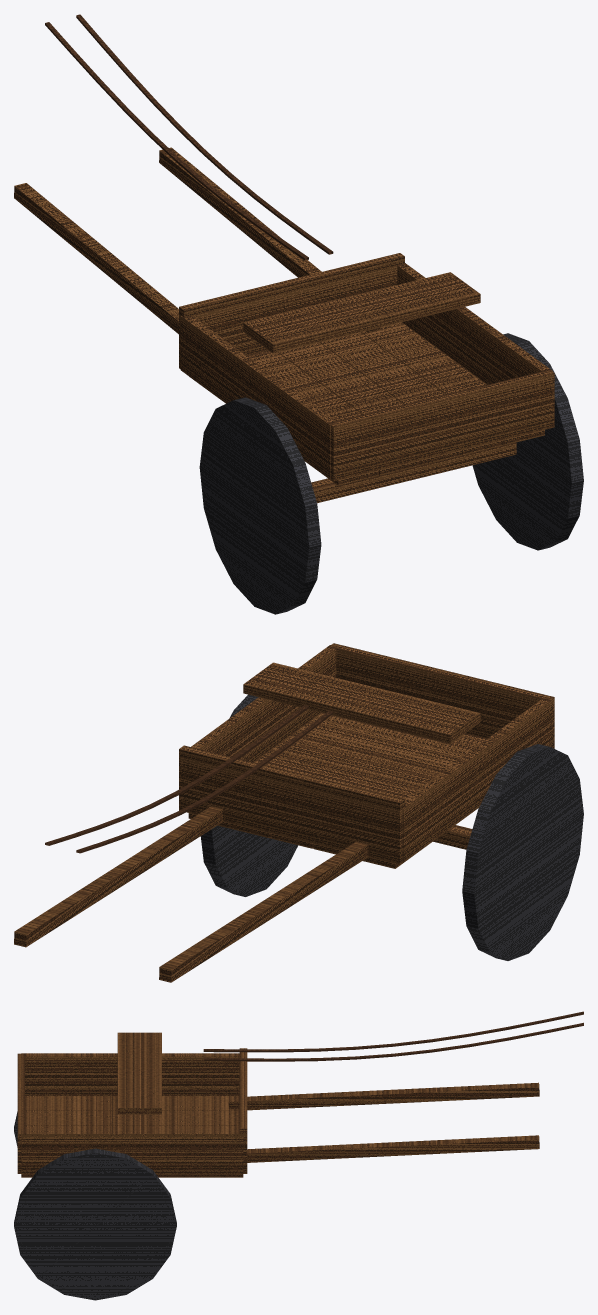
The model's file is cart.glb.
3 views of the same model, one above another, from view 1: azimuth 30°, elevation 25°; view 2: azimuth 150°, elevation 25°; view 3: azimuth 270°, elevation 25° (orthographic). The views are drawn at different scales.
Parts seen in each view (by area): view 1: cart; view 2: cart; view 3: cart.
Boxes of the visible parts, x1,y1,x2,y2 form: cart: (14, 14, 583, 614); cart: (14, 643, 583, 982); cart: (14, 1011, 583, 1300).
Bounding box in the file's own units: 1.59 × 1.74 × 3.85.
Materials: 3 (3 with a texture image).
